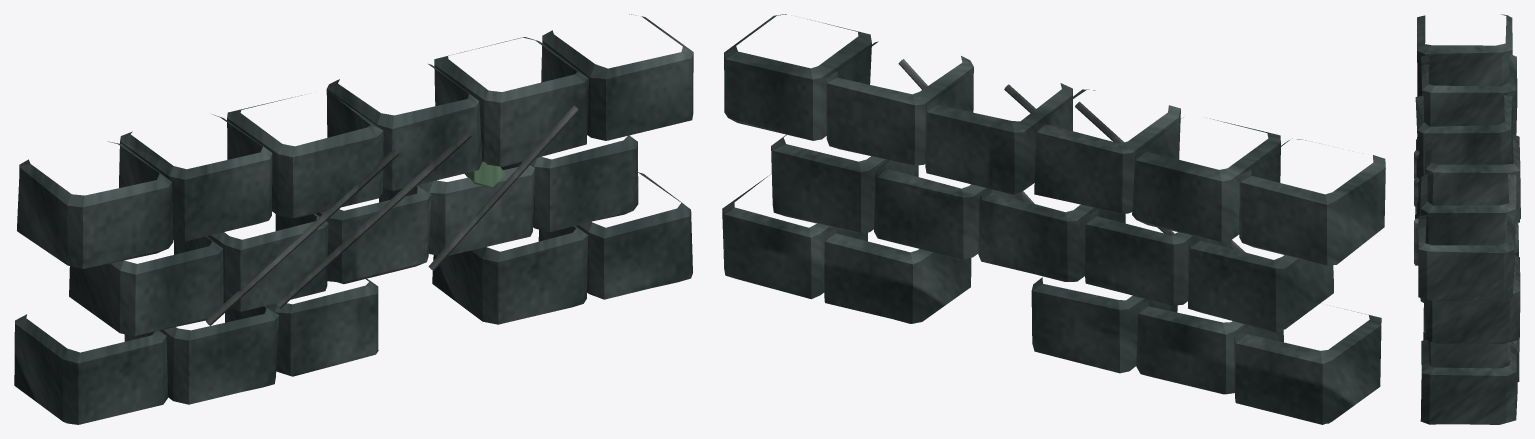
Rendered from 0331_wall_section_06.glb.
3 renders of one model, left to right at view 1: azimuth 30°, elevation 25°; view 2: azimuth 150°, elevation 25°; view 3: azimuth 270°, elevation 25°, orthographic. The views are drawn at different scales.
Visible parts, largest first — view 1: stone_dark, iron, moss; view 2: stone_dark, iron; view 3: stone_dark, iron.
Part boxes in pixels (x1=…): stone_dark: x1=14, y1=14, x2=693, y2=424; iron: x1=205, y1=105, x2=579, y2=325; moss: x1=464, y1=161, x2=505, y2=186; stone_dark: x1=722, y1=14, x2=1385, y2=424; iron: x1=898, y1=59, x2=1245, y2=252; stone_dark: x1=1415, y1=14, x2=1520, y2=424; iron: x1=1414, y1=150, x2=1419, y2=265.
Size of the model in its own units: 3.14 by 1.12 by 0.5957.
3 materials, 3 textured.
